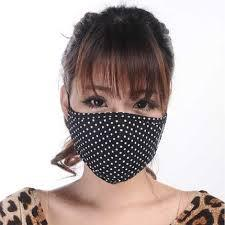OK: (69, 80, 173, 184)
